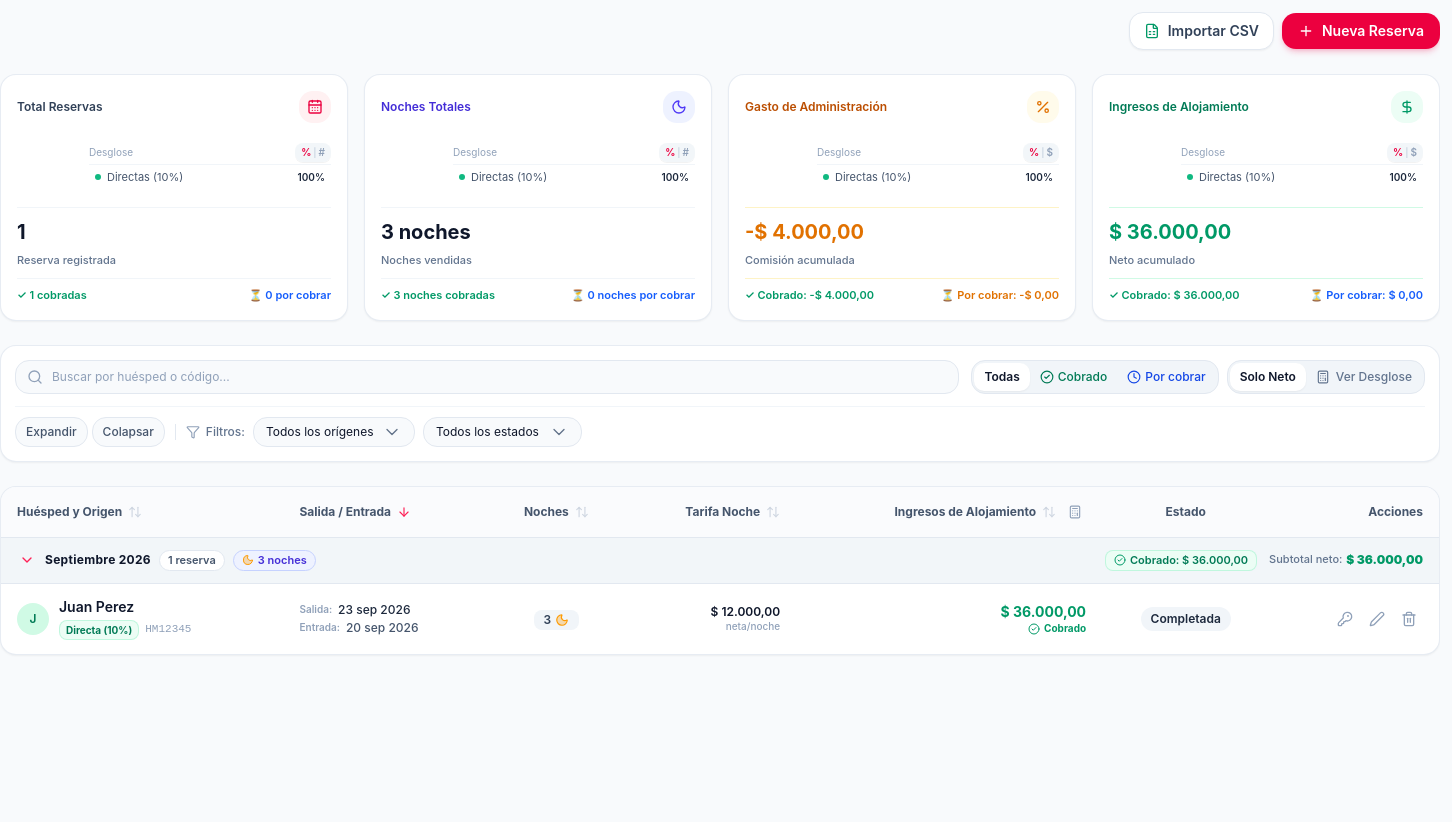
Test case: Bookings Route - Revenue Breakdown and Toggle › toggles breakdown mode when clicking the toolbar "Ver Desglose" button
The width and height of the screenshot is (1452, 822).
Click the button titled "Mostrar desglose de Bruto, Aseo, Adm y Neto" at (1364, 376), box [1306,362,1422,390]
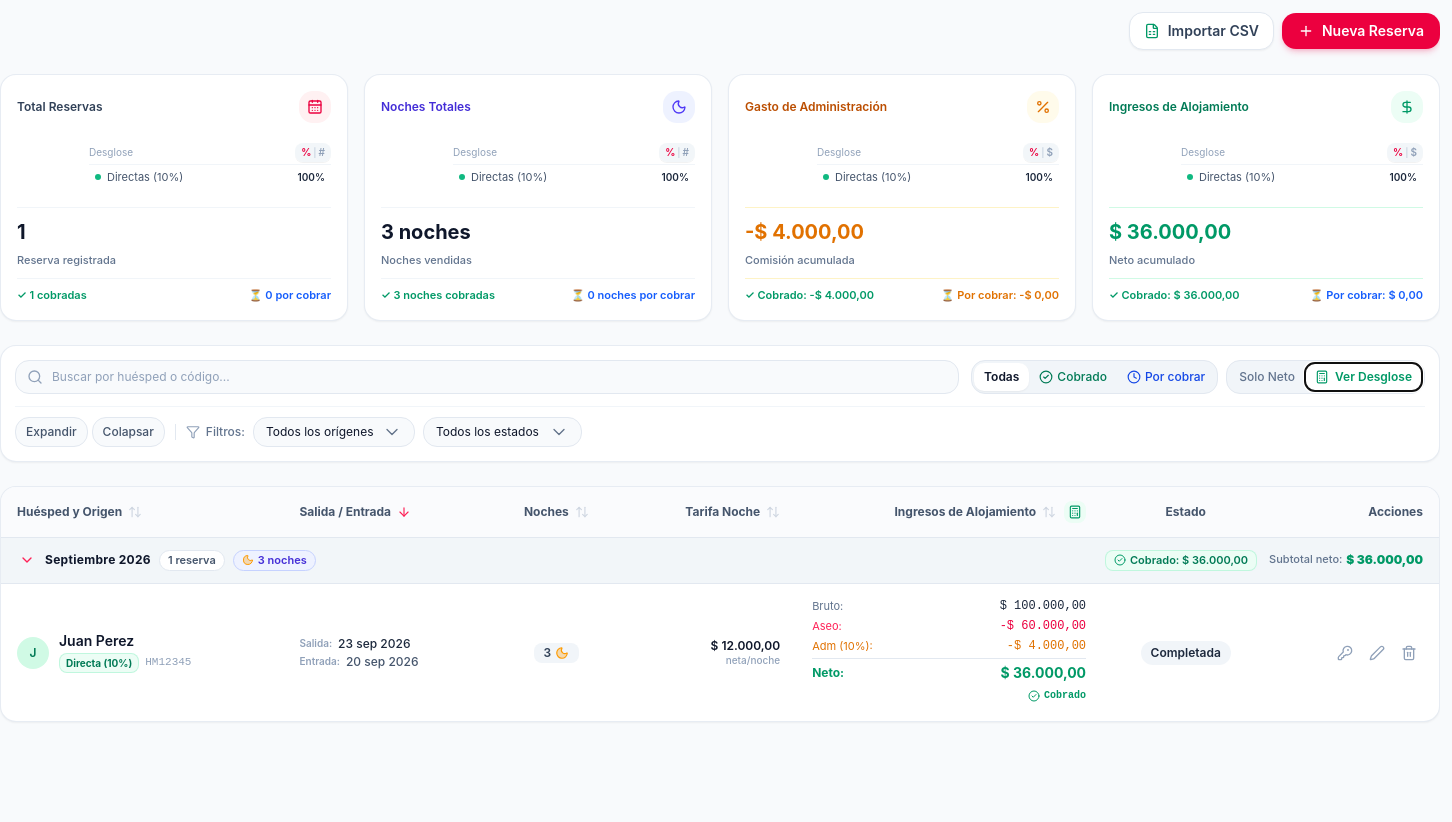
Expected: the text "Bruto:" is shown, [812,599,843,614]
Expected: the text "Aseo:" is shown, [812,619,842,634]
Expected: the text "Adm (10%):" is shown, [812,639,873,654]
